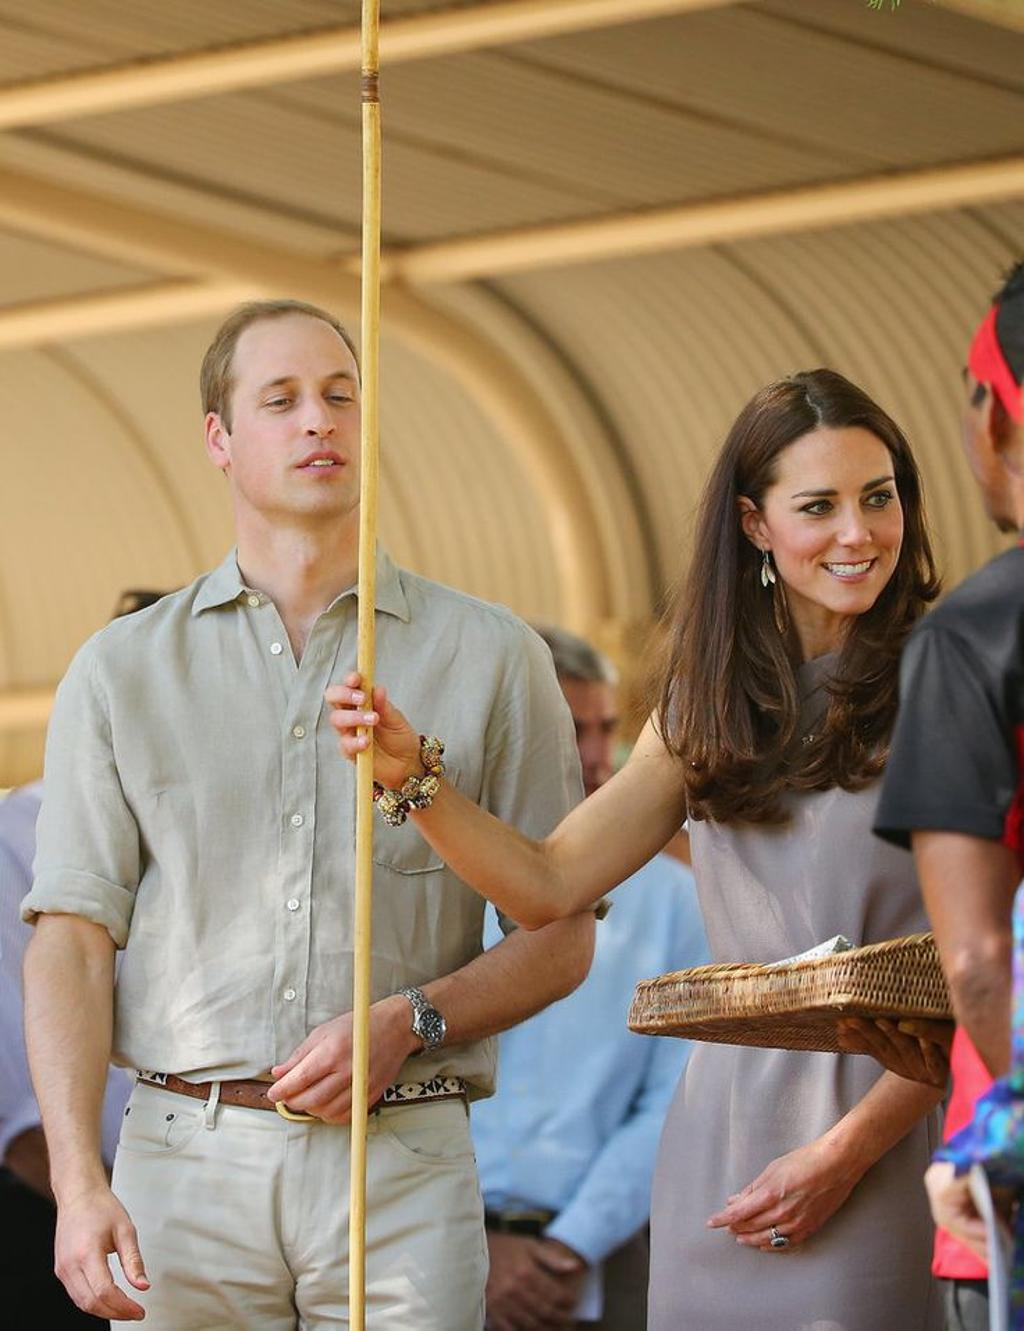face: (769, 398, 907, 619), (237, 325, 372, 510)
